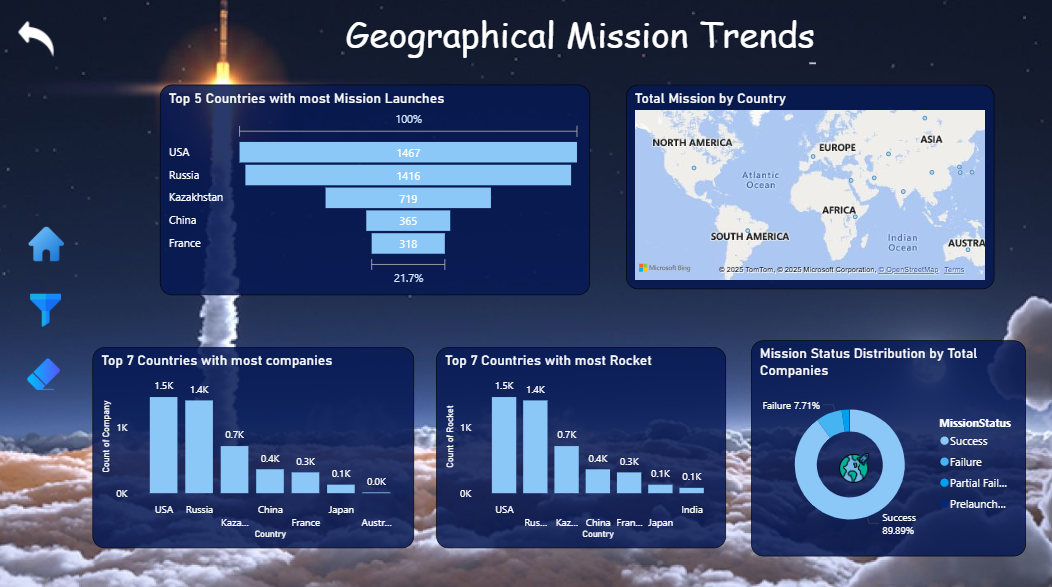

The dashboard page shown, as its layout file describes it:
{"tool":"powerbi","page":{"name":"Page 4","canvas":[1280,720],"ordinal":4},"visuals":[{"type":"textbox","title":"Geographical Mission Trends","box":[415,13.3,580,71.7],"z":0},{"type":"funnel","title":"Top 5 Countries with most Mission Launches","fields":{"Category":["space_missions.Country"],"Y":["CountNonNull(space_missions.Mission)"]},"box":[195,105,521.7,255],"z":1000},{"type":"map","title":"Total Mission by Country","fields":{"Category":["space_missions.Country"],"Y":["Count(space_missions.Mission)"]},"box":[760,105,446.7,248.3],"z":2000},{"type":"columnChart","title":"Top 7 Countries with most companies","fields":{"Y":["CountNonNull(space_missions.Company)"],"Category":["space_missions.Country"]},"box":[113.3,423.3,390,243.3],"z":3000},{"type":"columnChart","title":"Top 7 Countries with most Rocket","fields":{"Category":["space_missions.Country"],"Y":["CountNonNull(space_missions.Rocket)"]},"box":[529.7,423.6,351.4,243.4],"z":4000},{"type":"donutChart","title":"Mission Status Distribution by Total Companies","fields":{"Y":["CountNonNull(space_missions.Country)"],"Category":["space_missions.MissionStatus"]},"box":[911.7,415,333.3,261.7],"z":5000},{"type":"image","box":[17.7,22.6,53.2,53.2],"z":6000},{"type":"image","box":[25,271.7,65,53.3],"z":7000},{"type":"image","box":[30,353.3,53.3,50],"z":8000},{"type":"image","box":[25,428.3,58.3,55],"z":9000},{"type":"image","box":[1013.3,545,46.7,50],"z":12000}]}

Visuals, with their boxes in screenshot pixels (x1, y1, x2, y2), scaled from the page's 1280x720 canvas onto the 1052x587 screenshot:
"Geographical Mission Trends" textbox: region(341, 11, 818, 69)
"Top 5 Countries with most Mission Launches" funnel: region(160, 86, 589, 294)
"Total Mission by Country" map: region(625, 86, 992, 288)
"Top 7 Countries with most companies" columnChart: region(93, 345, 414, 543)
"Top 7 Countries with most Rocket" columnChart: region(435, 345, 724, 544)
"Mission Status Distribution by Total Companies" donutChart: region(749, 338, 1023, 552)
image: region(15, 18, 58, 62)
image: region(21, 222, 74, 265)
image: region(25, 288, 68, 329)
image: region(21, 349, 68, 394)
image: region(833, 444, 871, 485)
